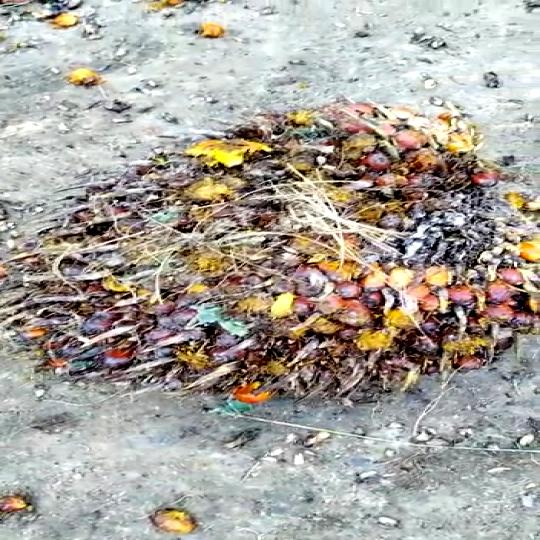masak: (16, 100, 540, 411)
